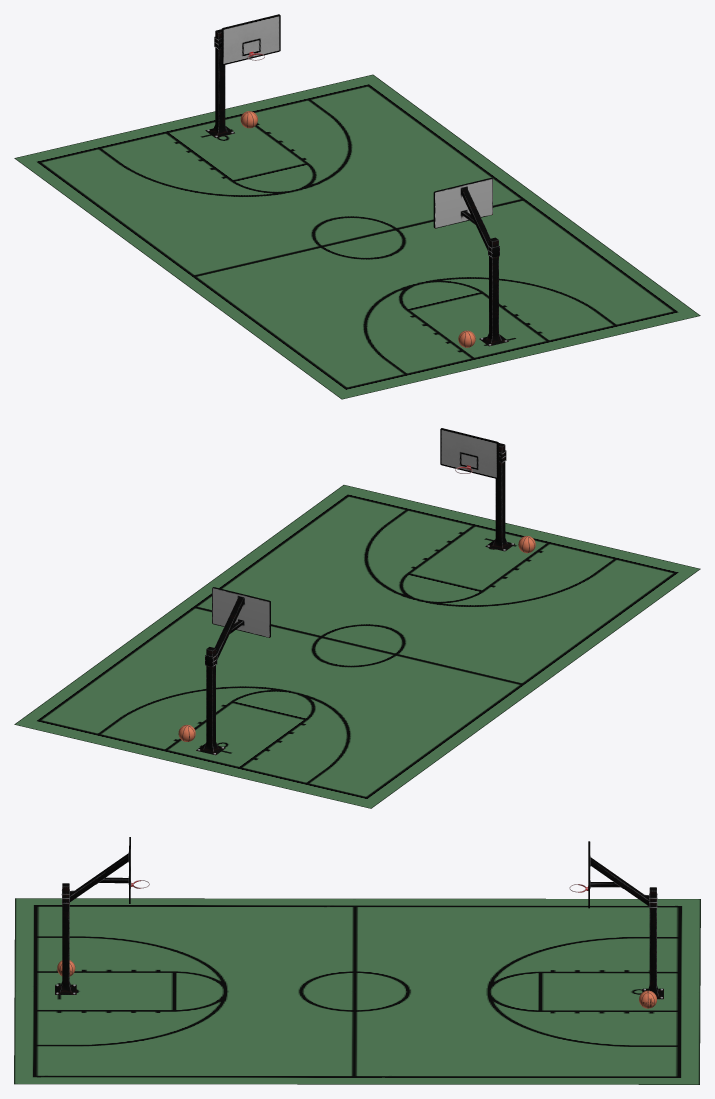
Rendered from courtcourt.gltf.
The picture shows the model from 3 angles, top to bottom: view 1: azimuth 30°, elevation 25°; view 2: azimuth 150°, elevation 25°; view 3: azimuth 270°, elevation 25°; orthographic projection. The views are drawn at different scales.
Visible parts, largest first — view 1: courtlines, whole_low 1, whole_low; view 2: courtlines, whole_low, whole_low 1; view 3: courtlines, whole_low 1, whole_low.
Boxes of the visible parts, x1,y1,x2,y2 form: courtlines: (14,74,700,399); whole_low 1: (433,178,508,346); whole_low: (205,14,280,137); courtlines: (14,485,700,808); whole_low: (196,587,270,755); whole_low 1: (440,428,514,551); courtlines: (14,898,700,1084); whole_low 1: (55,837,149,994); whole_low: (569,841,663,999).
Bounding box in the file's own units: 0.4879 × 0.1748 × 0.7738.
Materials: 6 (6 with a texture image).
